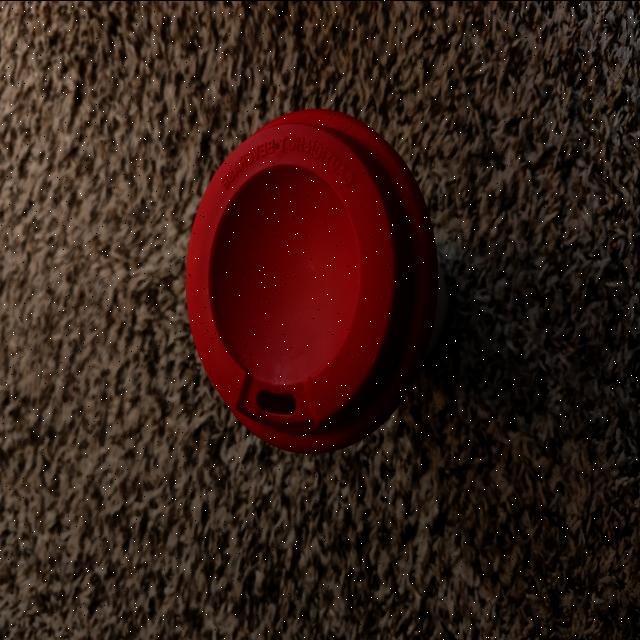mug: (214, 182, 442, 343)
